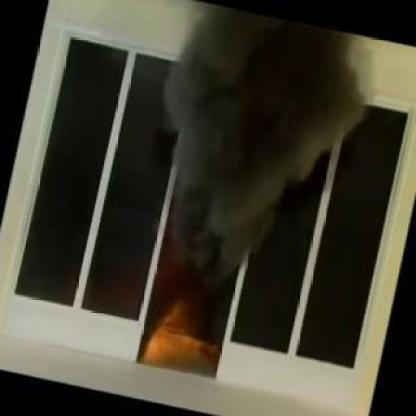Smoke: (154, 0, 376, 277)
